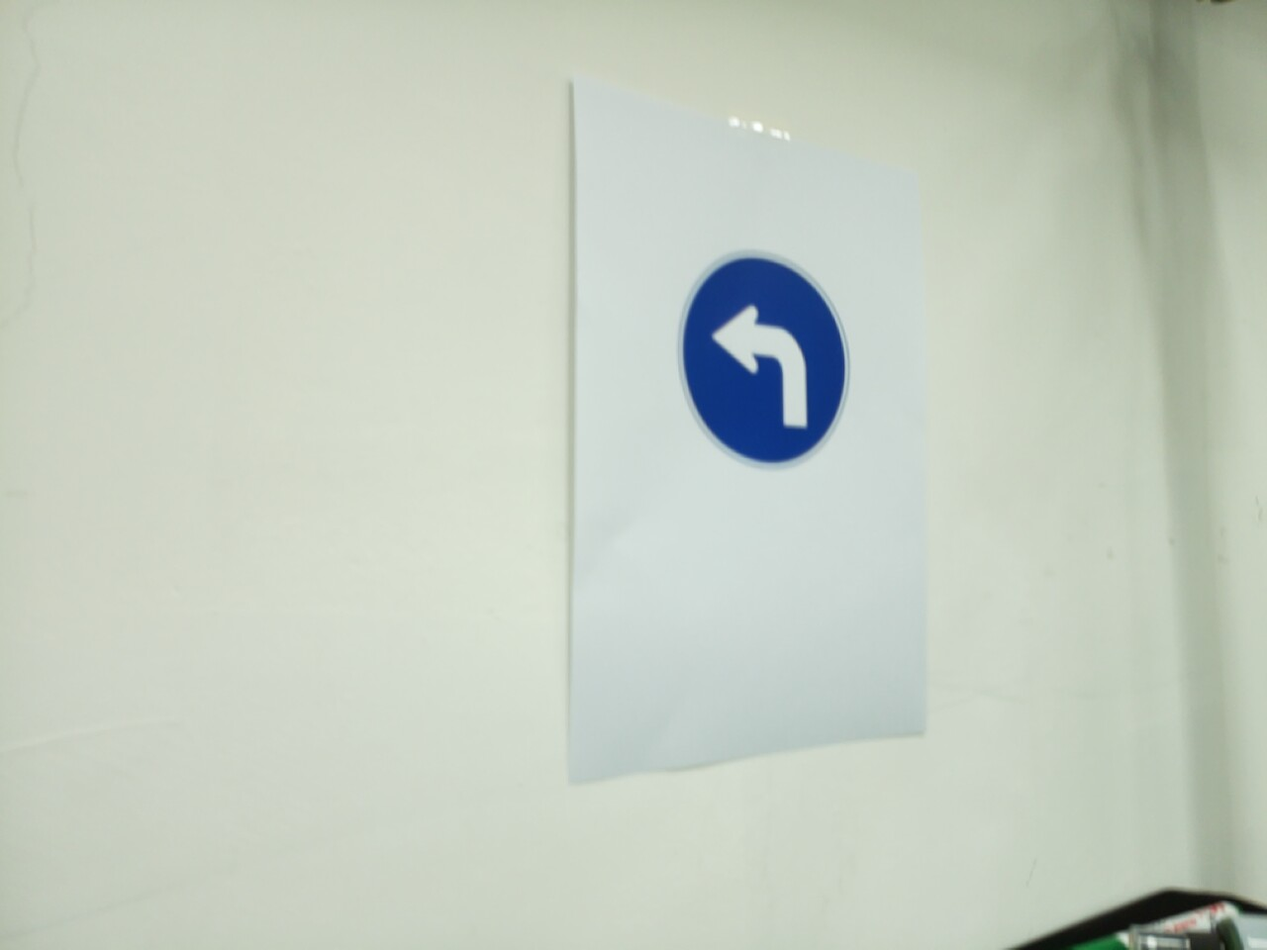left_turn: (676, 249, 852, 471)
